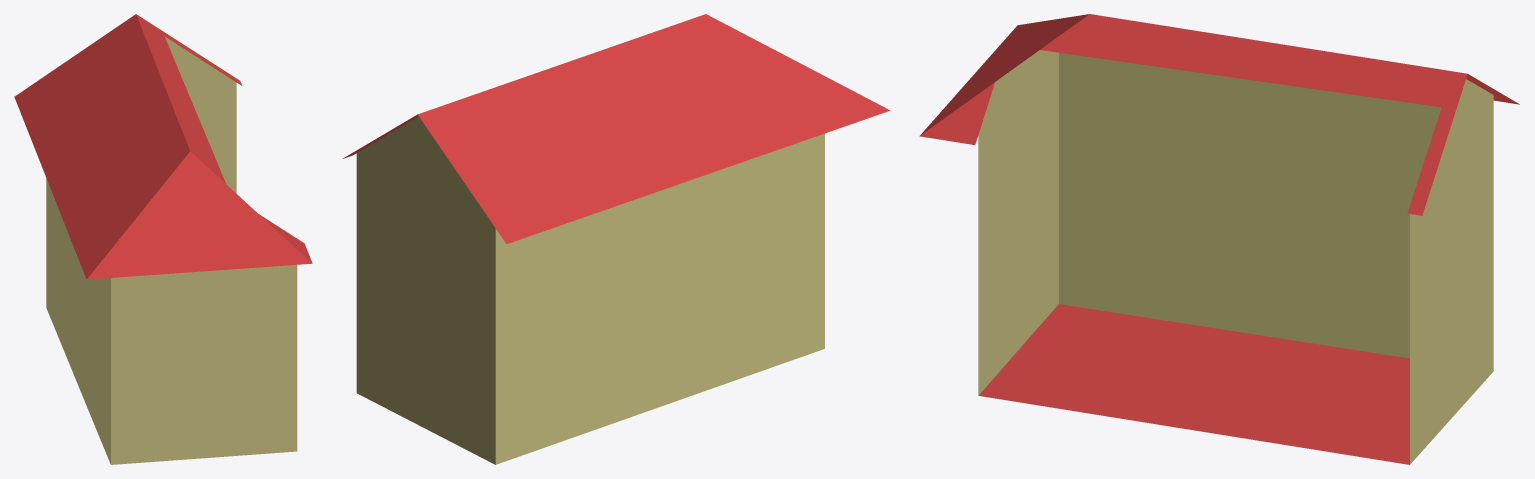
The picture shows the model from 3 angles, left to right: view 1: azimuth 30°, elevation 25°; view 2: azimuth 150°, elevation 25°; view 3: azimuth 270°, elevation 25°; orthographic projection. The views are drawn at different scales.
Bounding box in the file's own units: 12.54 × 16.72 × 10.58.
